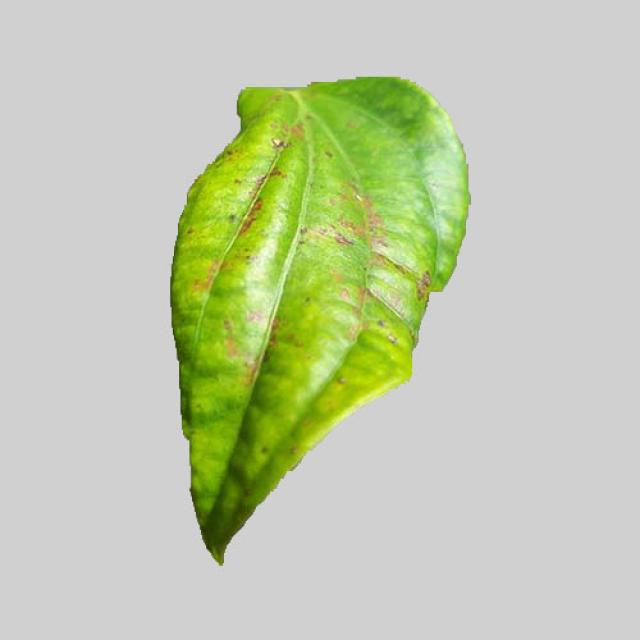yellow-mottle-virus: (155, 82, 476, 564)
